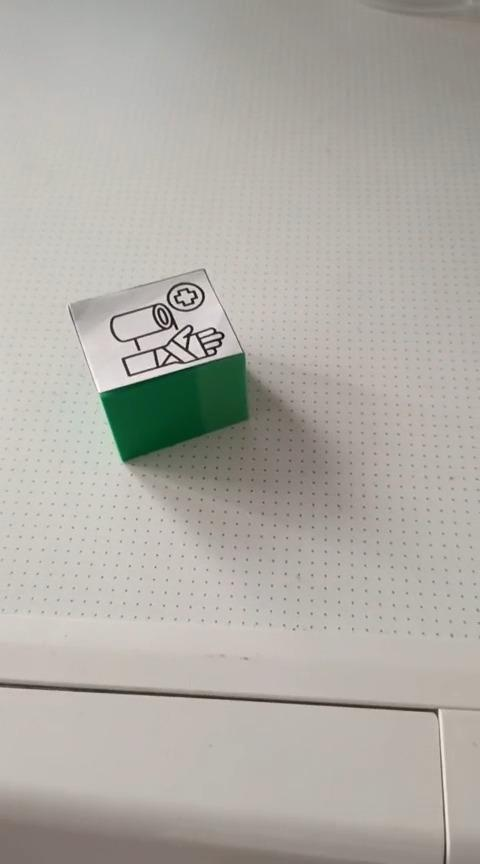Bandages: (70, 266, 250, 463)
